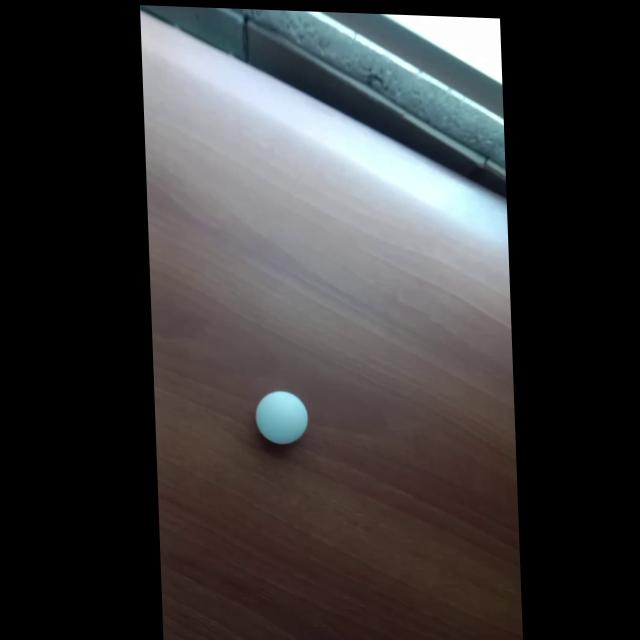white ball: (253, 390, 309, 446)
